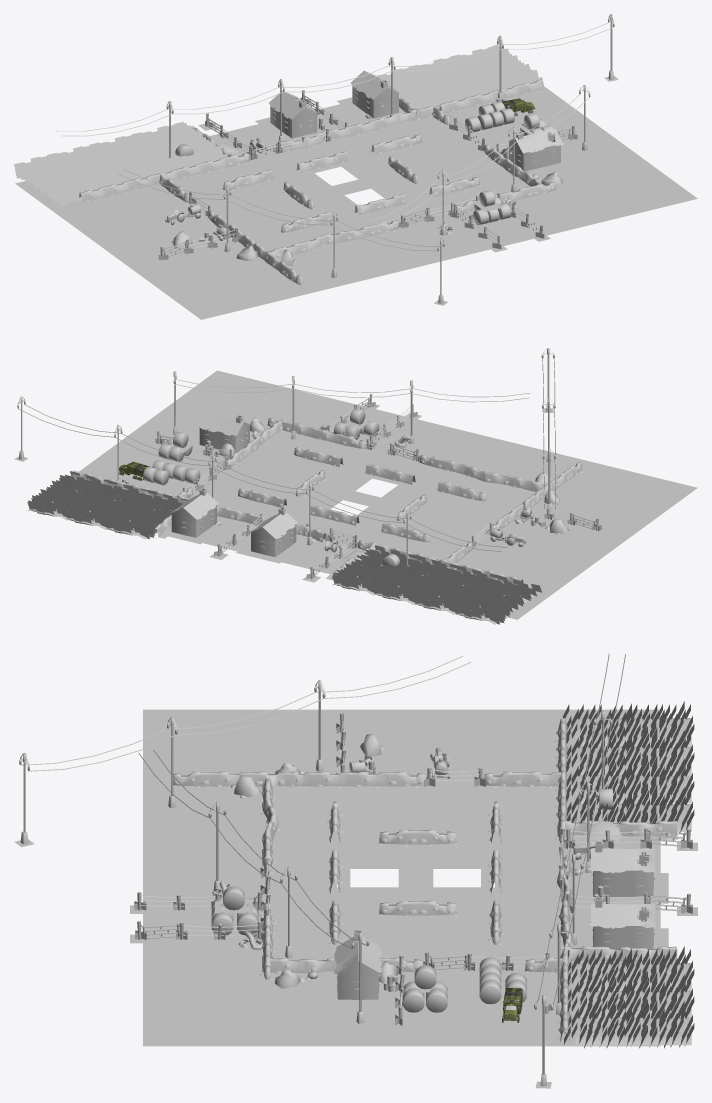
The model's file is Chapter02_Level1.dae.
3 renders of one model, top to bottom at view 1: azimuth 30°, elevation 25°; view 2: azimuth 150°, elevation 25°; view 3: azimuth 270°, elevation 25°, orthographic. The views are drawn at different scales.
Parts seen in each view (by area): view 1: Plane02, Object93; view 2: Plane02, Object93; view 3: Plane02, Object93.
Boxes of the visible parts, bbox=[...] form: Plane02: bbox=[15, 86, 697, 319]; Object93: bbox=[14, 14, 618, 305]; Plane02: bbox=[79, 370, 697, 619]; Object93: bbox=[14, 348, 606, 624]; Plane02: bbox=[143, 709, 660, 1046]; Object93: bbox=[14, 653, 697, 1088].
Bounding box in the file's own units: 180 × 137 × 20.42.
